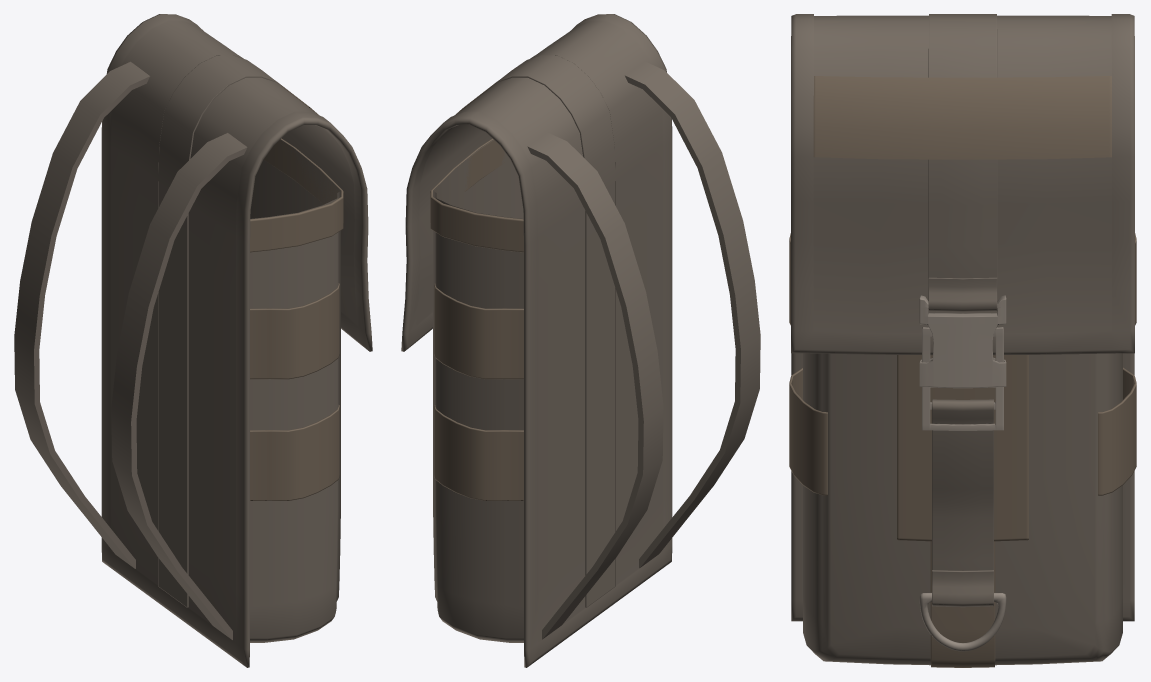
File: backpack.fbx
3 views of the same model, side by side, from view 1: azimuth 30°, elevation 25°; view 2: azimuth 150°, elevation 25°; view 3: azimuth 270°, elevation 25° (orthographic). The views are drawn at different scales.
Parts seen in each view (by area): view 1: polySurface22, polySurface18, polySurface19, polySurface24, polySurface23, polySurface21, polySurface6, polySurface2; view 2: polySurface22, polySurface18, polySurface19, polySurface23, polySurface24, polySurface7, polySurface20, polySurface2; view 3: polySurface22, polySurface18, polySurface9, polySurface19, polySurface14, polySurface3, group9_group7, polySurface17, polySurface6, polySurface20, group11_polySurface12, pCylinder1.
Part boxes in pixels (box(x1,y1,x2,y2)): polySurface22: box(101, 14, 372, 667); polySurface18: box(250, 139, 340, 642); polySurface19: box(158, 55, 285, 607); polySurface24: box(14, 61, 149, 568); polySurface23: box(111, 133, 247, 639); polySurface21: box(250, 283, 339, 379); polySurface6: box(250, 405, 339, 500); polySurface2: box(250, 138, 343, 252); polySurface22: box(401, 14, 672, 667); polySurface18: box(433, 139, 523, 642); polySurface19: box(488, 55, 615, 607); polySurface23: box(625, 61, 760, 568); polySurface24: box(527, 132, 663, 639); polySurface7: box(434, 283, 523, 379); polySurface20: box(434, 405, 523, 500); polySurface2: box(430, 138, 523, 252); polySurface22: box(791, 14, 1134, 621); polySurface18: box(803, 353, 1122, 665); polySurface9: box(813, 76, 1111, 159); polySurface19: box(928, 14, 997, 311); polySurface14: box(932, 399, 993, 607); polySurface3: box(897, 355, 1028, 541); group9_group7: box(919, 295, 1006, 387); polySurface17: box(930, 541, 995, 667); polySurface6: box(789, 367, 827, 495); polySurface20: box(1098, 367, 1136, 495); group11_polySurface12: box(922, 327, 1003, 430); pCylinder1: box(919, 592, 1006, 651).
Size of the model in its own units: 5.83 by 12.1 by 6.02.
